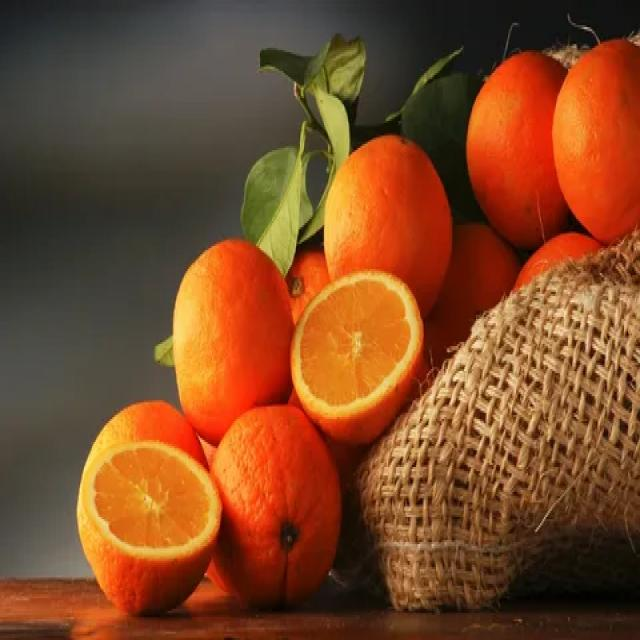orange: (170, 239, 294, 424)
